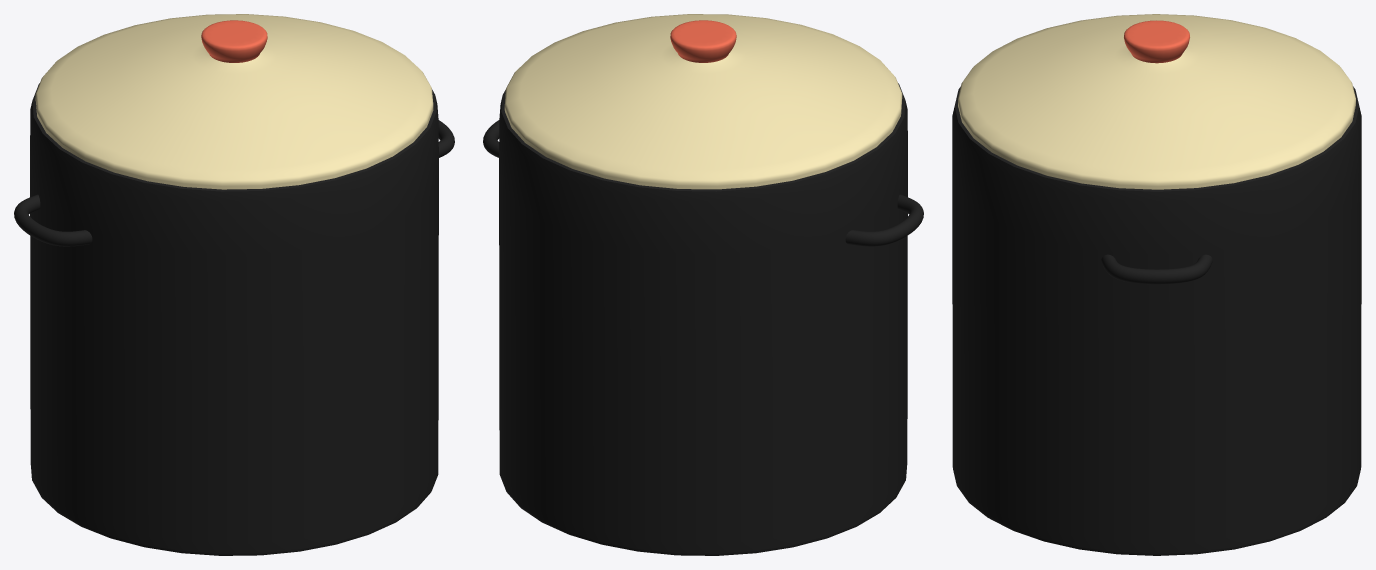
File: HP_pot2.obj
3 renders of one model, left to right at view 1: azimuth 30°, elevation 25°; view 2: azimuth 150°, elevation 25°; view 3: azimuth 270°, elevation 25°, orthographic.
Visible parts, largest first — view 1: HP_pot2.001, HP_pot2_lid.001; view 2: HP_pot2.001, HP_pot2_lid.001; view 3: HP_pot2.001, HP_pot2_lid.001.
Part boxes in pixels (x1,y1,x2,y2): HP_pot2.001: [14, 83, 454, 555]; HP_pot2_lid.001: [35, 14, 433, 189]; HP_pot2.001: [483, 83, 923, 555]; HP_pot2_lid.001: [504, 14, 902, 189]; HP_pot2.001: [952, 86, 1361, 555]; HP_pot2_lid.001: [958, 14, 1355, 189].
Bounding box in the file's own units: 0.4269 × 0.4257 × 0.3615.
